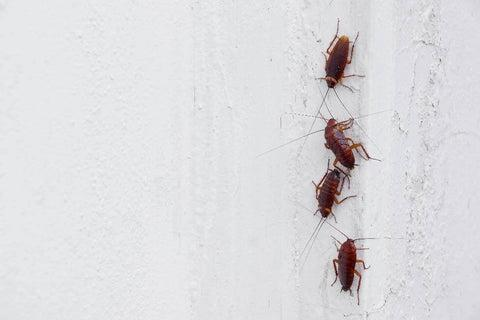cockroach: (321, 114, 361, 172), (332, 234, 360, 296), (322, 32, 352, 88), (312, 168, 343, 222)
